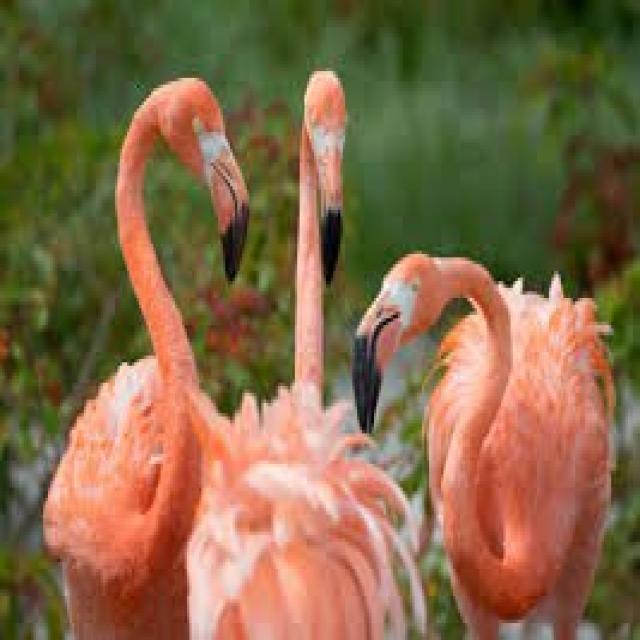Flamingo: (44, 65, 254, 637), (349, 251, 615, 640), (243, 65, 388, 640)
